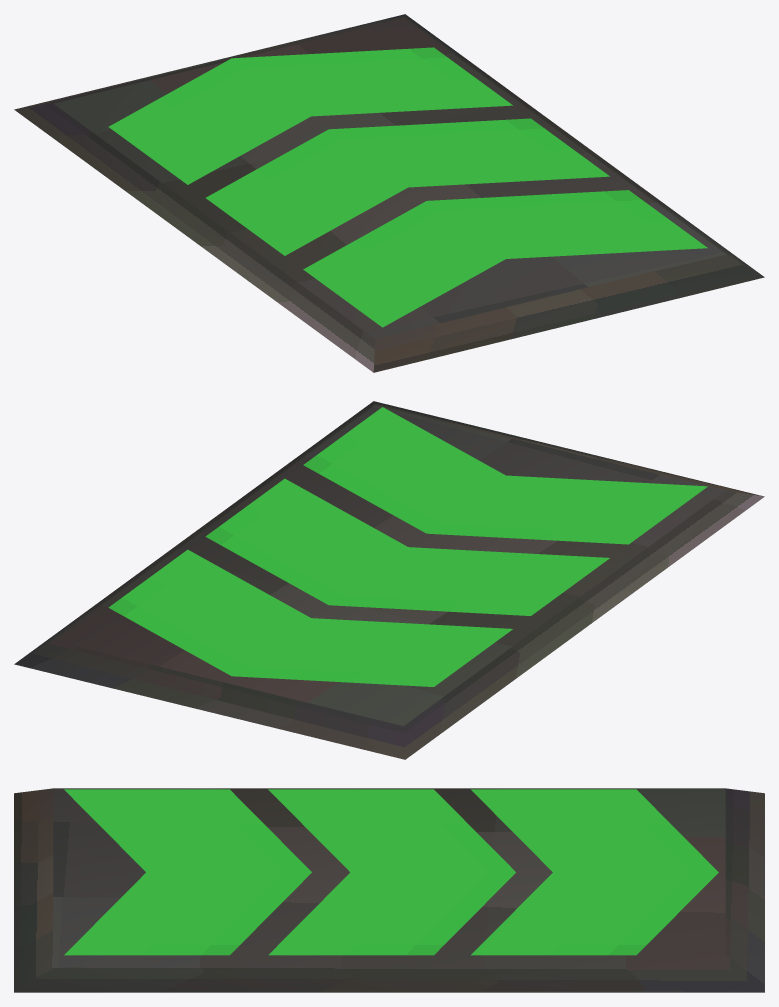
The model's file is speedplatform.glb.
3 renders of one model, top to bottom at view 1: azimuth 30°, elevation 25°; view 2: azimuth 150°, elevation 25°; view 3: azimuth 270°, elevation 25°, orthographic. The views are drawn at different scales.
Visible parts, largest first — view 1: Cube, Plane.002, Plane, Plane.001; view 2: Cube, Plane.001, Plane, Plane.002; view 3: Cube, Plane.002, Plane, Plane.001.
Boxes of the visible parts, <box> form: Cube: <box>14,14,764,372</box>; Plane.002: <box>303,190,707,327</box>; Plane: <box>206,118,609,255</box>; Plane.001: <box>108,47,512,184</box>; Cube: <box>14,401,764,759</box>; Plane.001: <box>108,549,512,686</box>; Plane: <box>205,478,609,615</box>; Plane.002: <box>303,407,707,544</box>; Cube: <box>14,788,764,992</box>; Plane.002: <box>64,789,311,955</box>; Plane: <box>268,789,515,955</box>; Plane.001: <box>471,789,718,955</box>.
Bounding box in the file's own units: 5.68 × 0.2735 × 9.05.
1 material, 1 textured.
